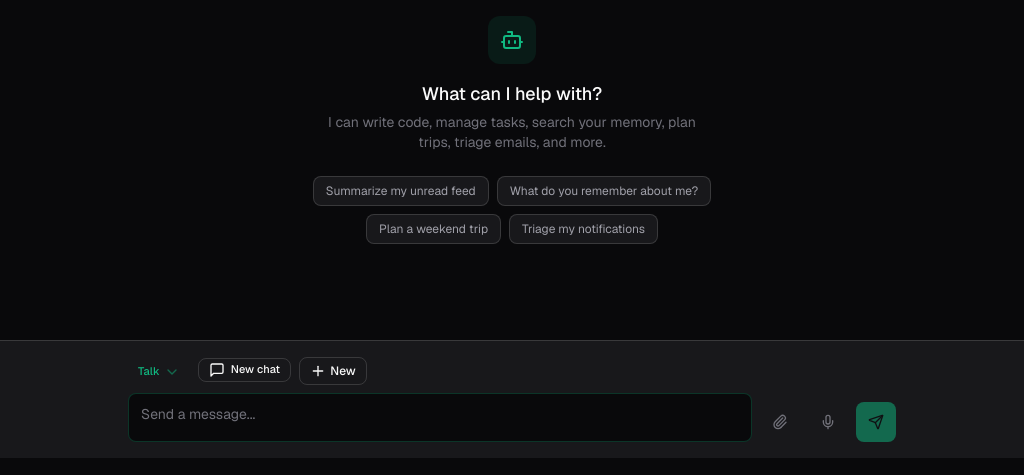
ChatPanel › populates input when suggestion chip is clicked
What coordinates should you click on to do the following:
click the button "Plan a weekend trip"
I would click on:
 (434, 229)
Its box is [366,214,501,244].
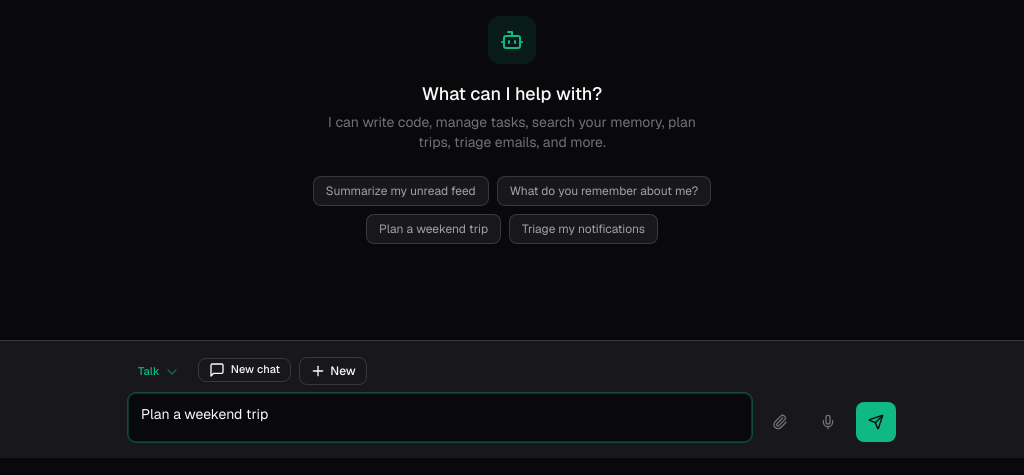
Check: the text box with placeholder "Send a message..." holds "Plan a weekend trip", box [129,394,751,434]
